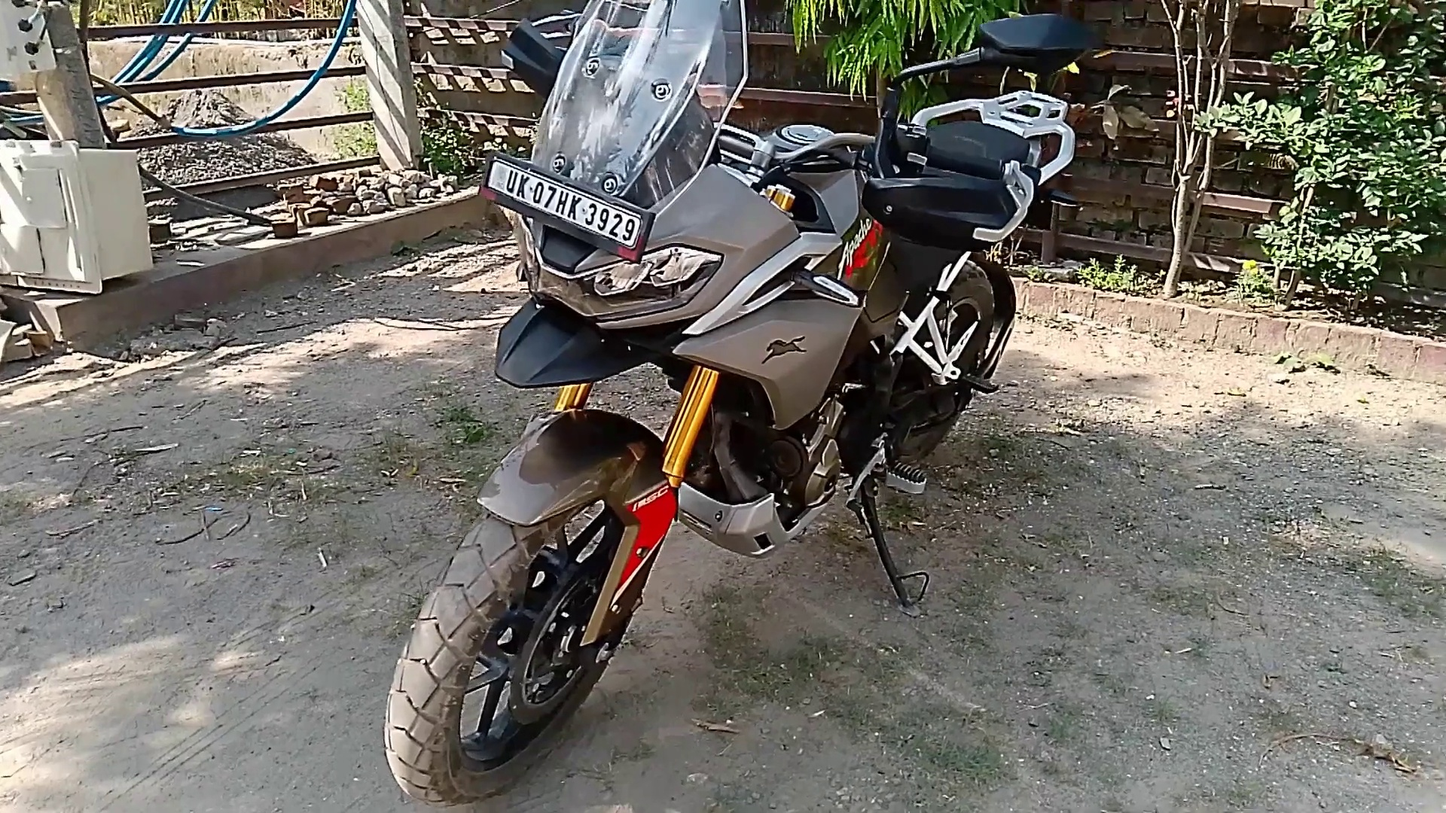engine-casing-left: (797, 394, 843, 507)
side-stand: (856, 499, 930, 617)
